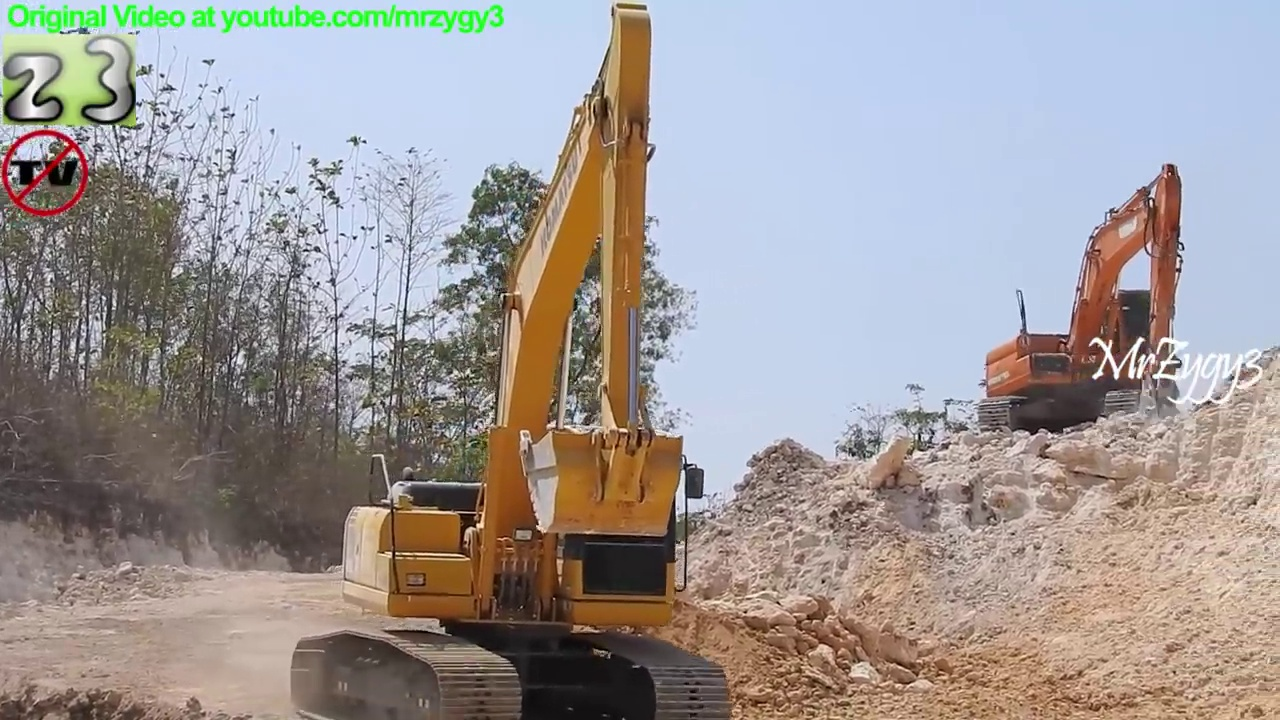excavator: (288, 2, 740, 720), (978, 158, 1198, 454)
